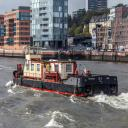tugboat: (13, 45, 120, 101)
